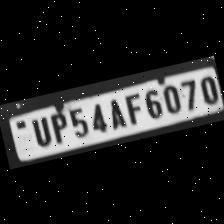0: (194, 71, 222, 107), (157, 80, 183, 115)
4: (84, 98, 110, 134)
5: (62, 102, 90, 140)
6: (138, 84, 164, 120)
7: (176, 75, 202, 112)
A: (101, 94, 126, 130)
F: (120, 90, 145, 126)
P: (45, 107, 70, 144)
U: (25, 112, 52, 148)
